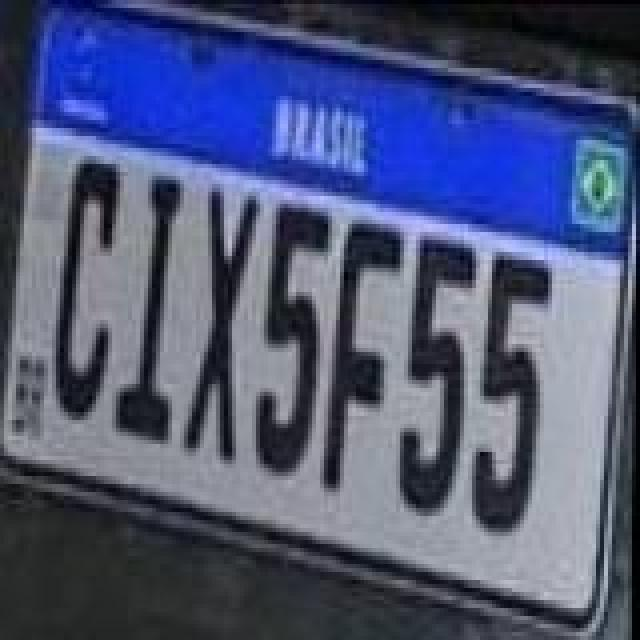5: (474, 250, 558, 534), (250, 200, 334, 476), (400, 236, 480, 520)
C: (52, 160, 124, 424)
F: (322, 218, 406, 498)
I: (110, 168, 186, 440)
X: (182, 182, 258, 462)
